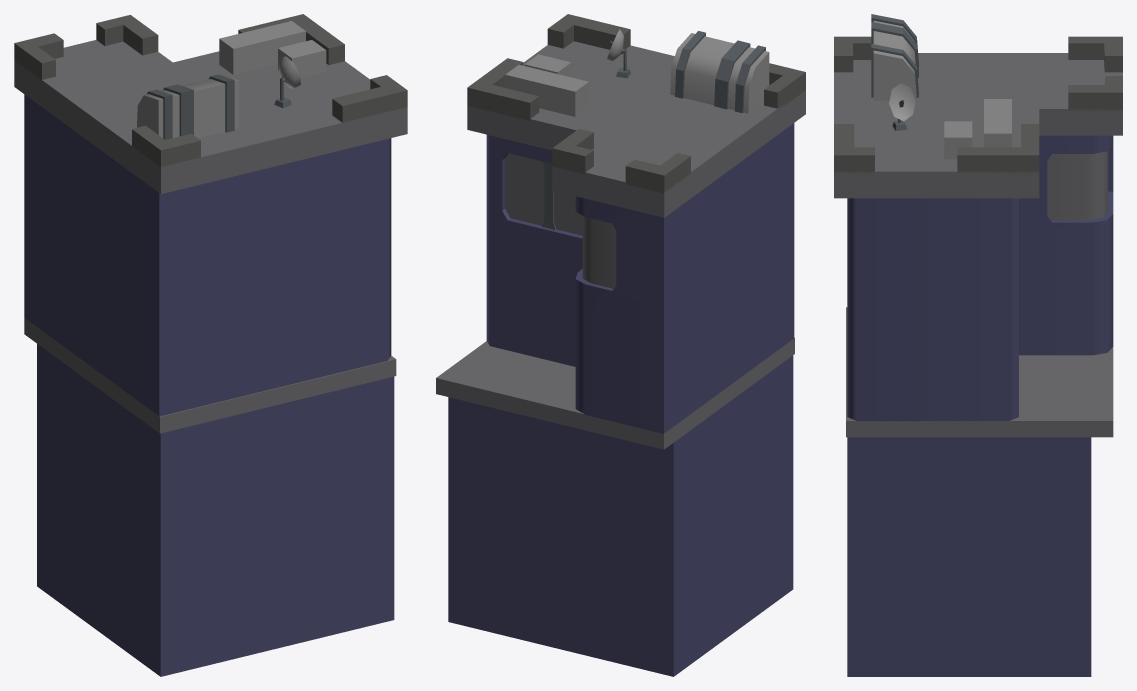
File: West_House_06.fbx
3 views of the same model, side by side, from view 1: azimuth 30°, elevation 25°; view 2: azimuth 150°, elevation 25°; view 3: azimuth 270°, elevation 25° (orthographic). The views are drawn at different scales.
Visible parts, largest first — view 1: West_House_06; view 2: West_House_06; view 3: West_House_06.
Boxes of the visible parts, box(x1,y1,x2,y2) form: West_House_06: box(14, 14, 407, 676); West_House_06: box(436, 14, 805, 676); West_House_06: box(834, 14, 1122, 676).
Size of the model in its own units: 23.79 by 52.27 by 24.5.
